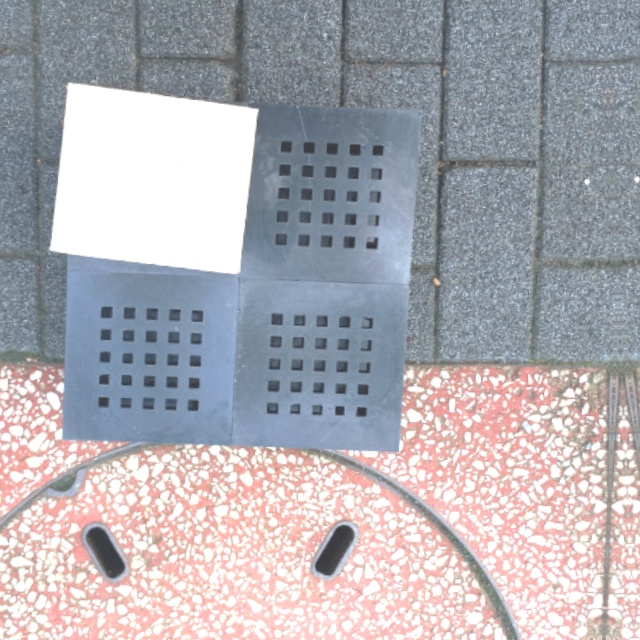box: (49, 77, 259, 278)
pallet: (37, 67, 430, 470)
